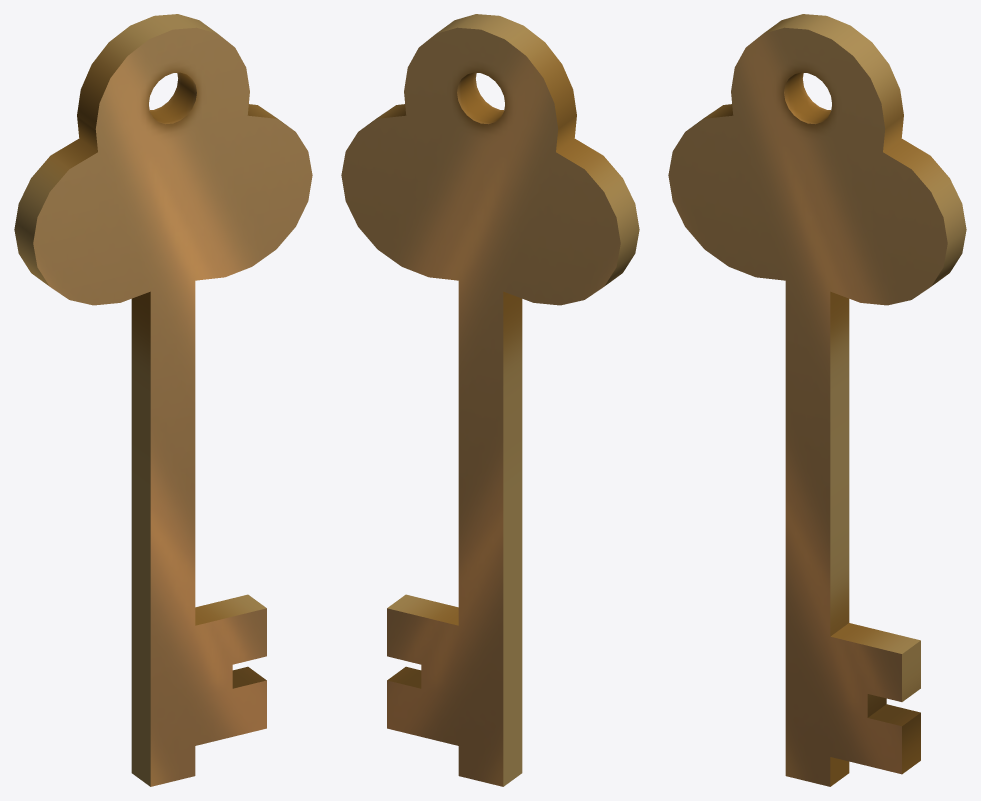
The model's file is Key.fbx.
3 views of the same model, side by side, from view 1: azimuth 30°, elevation 25°; view 2: azimuth 150°, elevation 25°; view 3: azimuth 330°, elevation 25° (orthographic).
Visible parts, largest first — view 1: pCylinder8; view 2: pCylinder8; view 3: pCylinder8.
Boxes of the visible parts, box(x1,y1,x2,y2) form: pCylinder8: box(14, 14, 312, 786); pCylinder8: box(341, 14, 639, 786); pCylinder8: box(668, 14, 966, 786).
Bounding box in the file's own units: 3.62 × 9.32 × 0.4222.
Materials: 1 (1 with a texture image).
